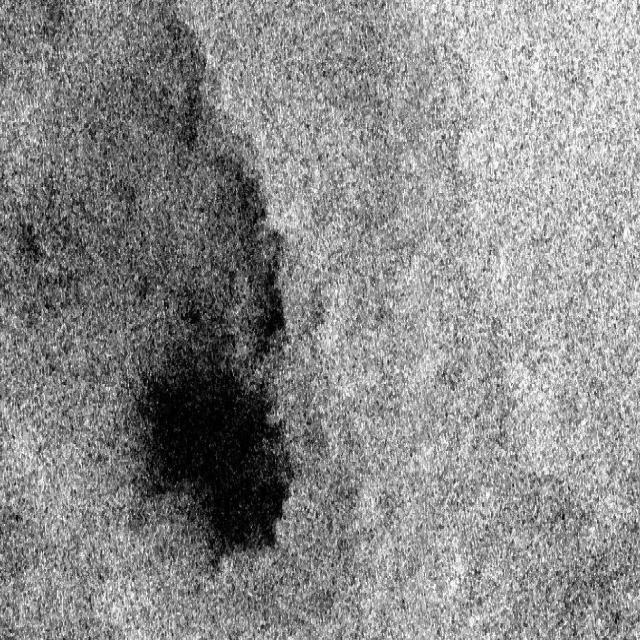look-alike: (117, 332, 299, 578), (192, 142, 294, 346)
